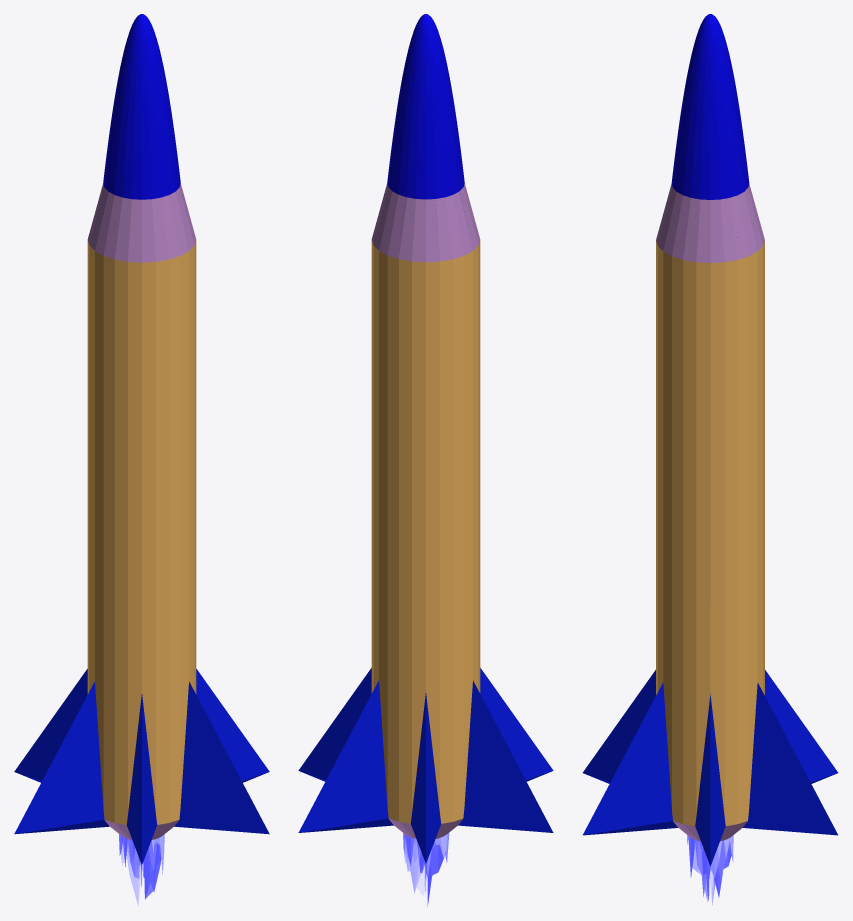
Rendered from missile.fbx.
3 renders of one model, left to right at view 1: azimuth 30°, elevation 25°; view 2: azimuth 150°, elevation 25°; view 3: azimuth 270°, elevation 25°, orthographic.
Visible parts, largest first — view 1: Mesh_Mesh_head_geo.001_lambert2SG.001, Cylinder.001; view 2: Mesh_Mesh_head_geo.001_lambert2SG.001, Cylinder.001; view 3: Mesh_Mesh_head_geo.001_lambert2SG.001, Cylinder.001.
Boxes of the visible parts, box(x1,y1,x2,y2) form: Mesh_Mesh_head_geo.001_lambert2SG.001: box(14, 14, 269, 864); Cylinder.001: box(119, 834, 164, 906); Mesh_Mesh_head_geo.001_lambert2SG.001: box(298, 14, 553, 863); Cylinder.001: box(403, 833, 449, 906); Mesh_Mesh_head_geo.001_lambert2SG.001: box(582, 14, 838, 866); Cylinder.001: box(687, 835, 733, 905).
Size of the model in its own units: 1267 by 4225 by 1097.
